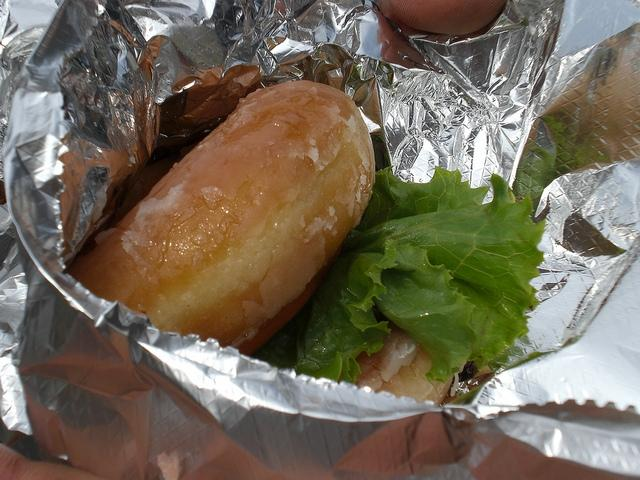lettuce: (340, 174, 546, 372), (250, 239, 494, 384)
